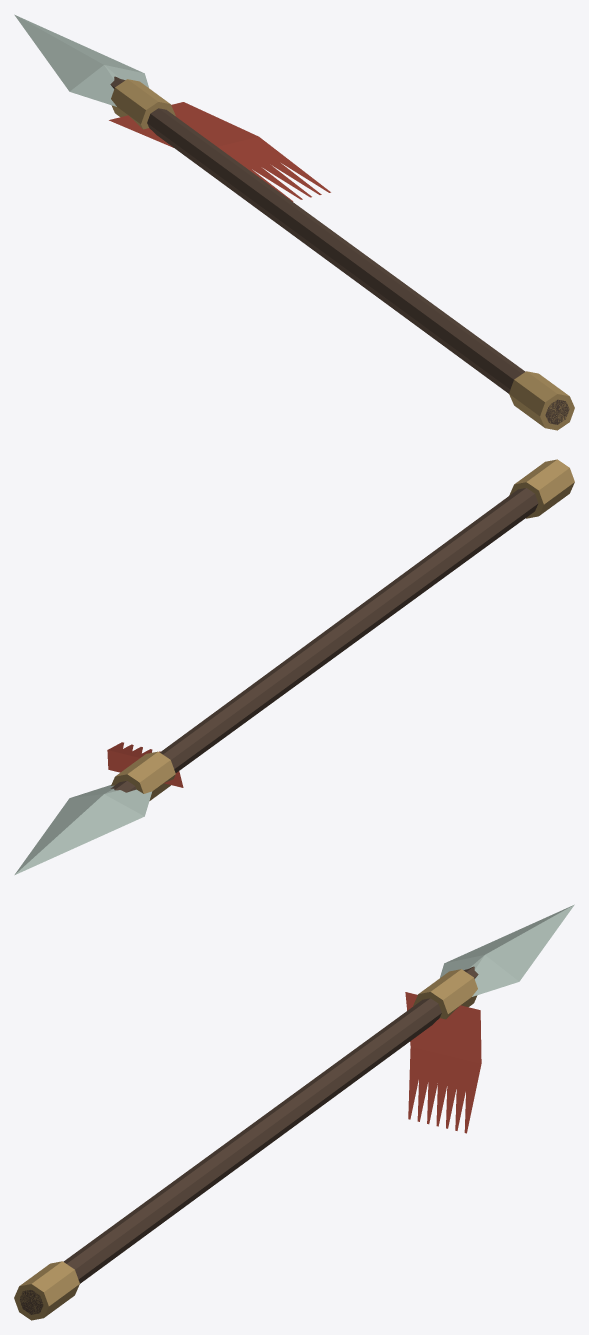
File: long_spear.glb
3 renders of one model, top to bottom at view 1: azimuth 30°, elevation 25°; view 2: azimuth 150°, elevation 25°; view 3: azimuth 330°, elevation 25°, orthographic.
Parts seen in each view (by area): view 1: BladeMesh; view 2: BladeMesh; view 3: BladeMesh.
Boxes of the visible parts, x1=… form: BladeMesh: x1=14, y1=14, x2=574, y2=430; BladeMesh: x1=14, y1=459, x2=574, y2=875; BladeMesh: x1=14, y1=904, x2=574, y2=1320.
Size of the model in its own units: 0.529 by 0.235 by 3.5.
